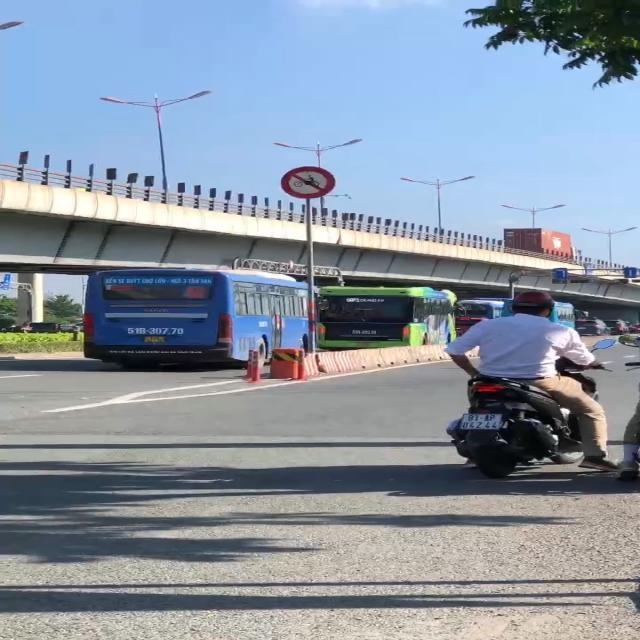Bien bao cam xe may: (278, 161, 342, 201)
